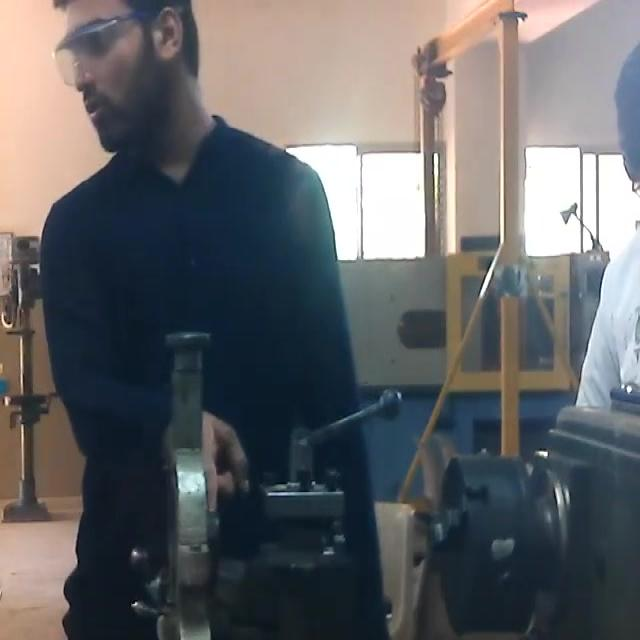googles: (53, 18, 124, 90)
